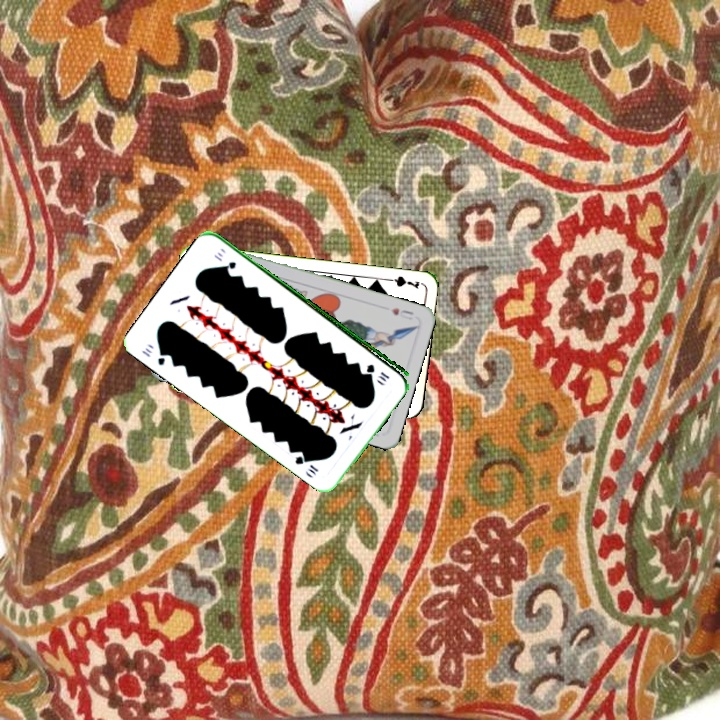G10: (138, 344, 171, 368), (363, 360, 392, 384)
G7: (381, 272, 422, 291)
HU: (388, 304, 416, 323)
